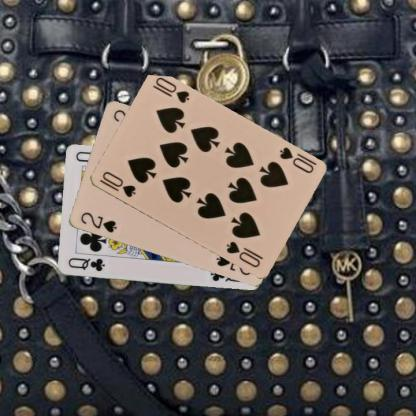10s: (96, 168, 137, 198), (276, 145, 315, 175)
2s: (77, 210, 118, 234)
Qc: (65, 255, 106, 273)
